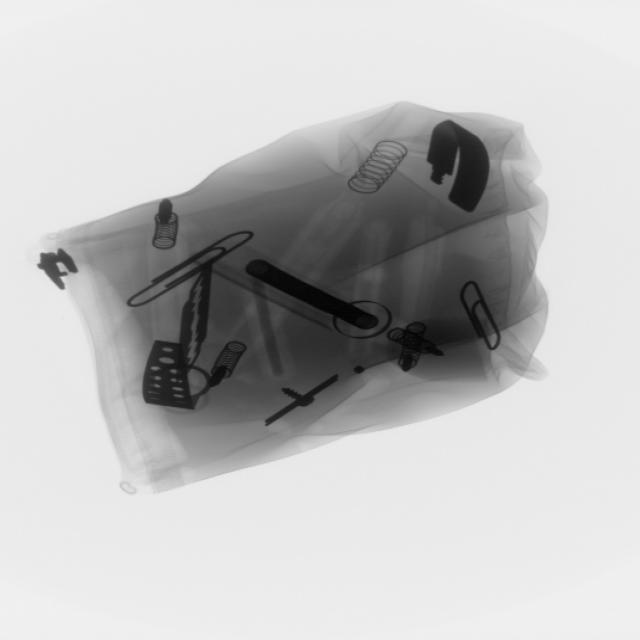BLADE: (163, 244, 227, 389)
